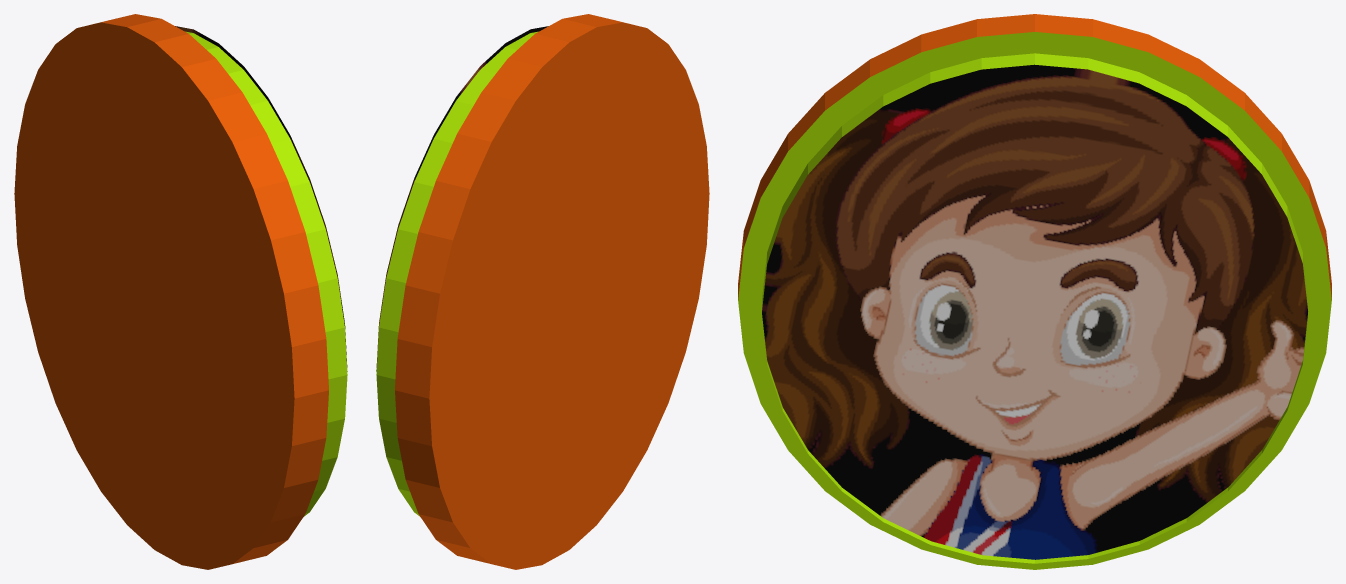
Rendered from girl 1.gltf.
3 views of the same model, side by side, from view 1: azimuth 30°, elevation 25°; view 2: azimuth 150°, elevation 25°; view 3: azimuth 270°, elevation 25° (orthographic). The views are drawn at different scales.
Visible parts, largest first — view 1: Cylinder.007, Cylinder.017, Cylinder.020; view 2: Cylinder.007, Cylinder.017, Cylinder.020; view 3: Cylinder.020, Cylinder.017, Cylinder.007.
Boxes of the visible parts, x1,y1,x2,y2 form: Cylinder.007: (14, 14, 328, 569); Cylinder.017: (185, 31, 347, 516); Cylinder.020: (175, 26, 347, 371); Cylinder.007: (395, 14, 709, 569); Cylinder.017: (376, 31, 538, 516); Cylinder.020: (376, 26, 548, 371); Cylinder.020: (762, 64, 1307, 559); Cylinder.017: (738, 32, 1331, 569); Cylinder.007: (738, 14, 1331, 299).
Bounding box in the file's own units: 0.8839 × 6.68 × 6.68.
Materials: 6 (2 with a texture image).
